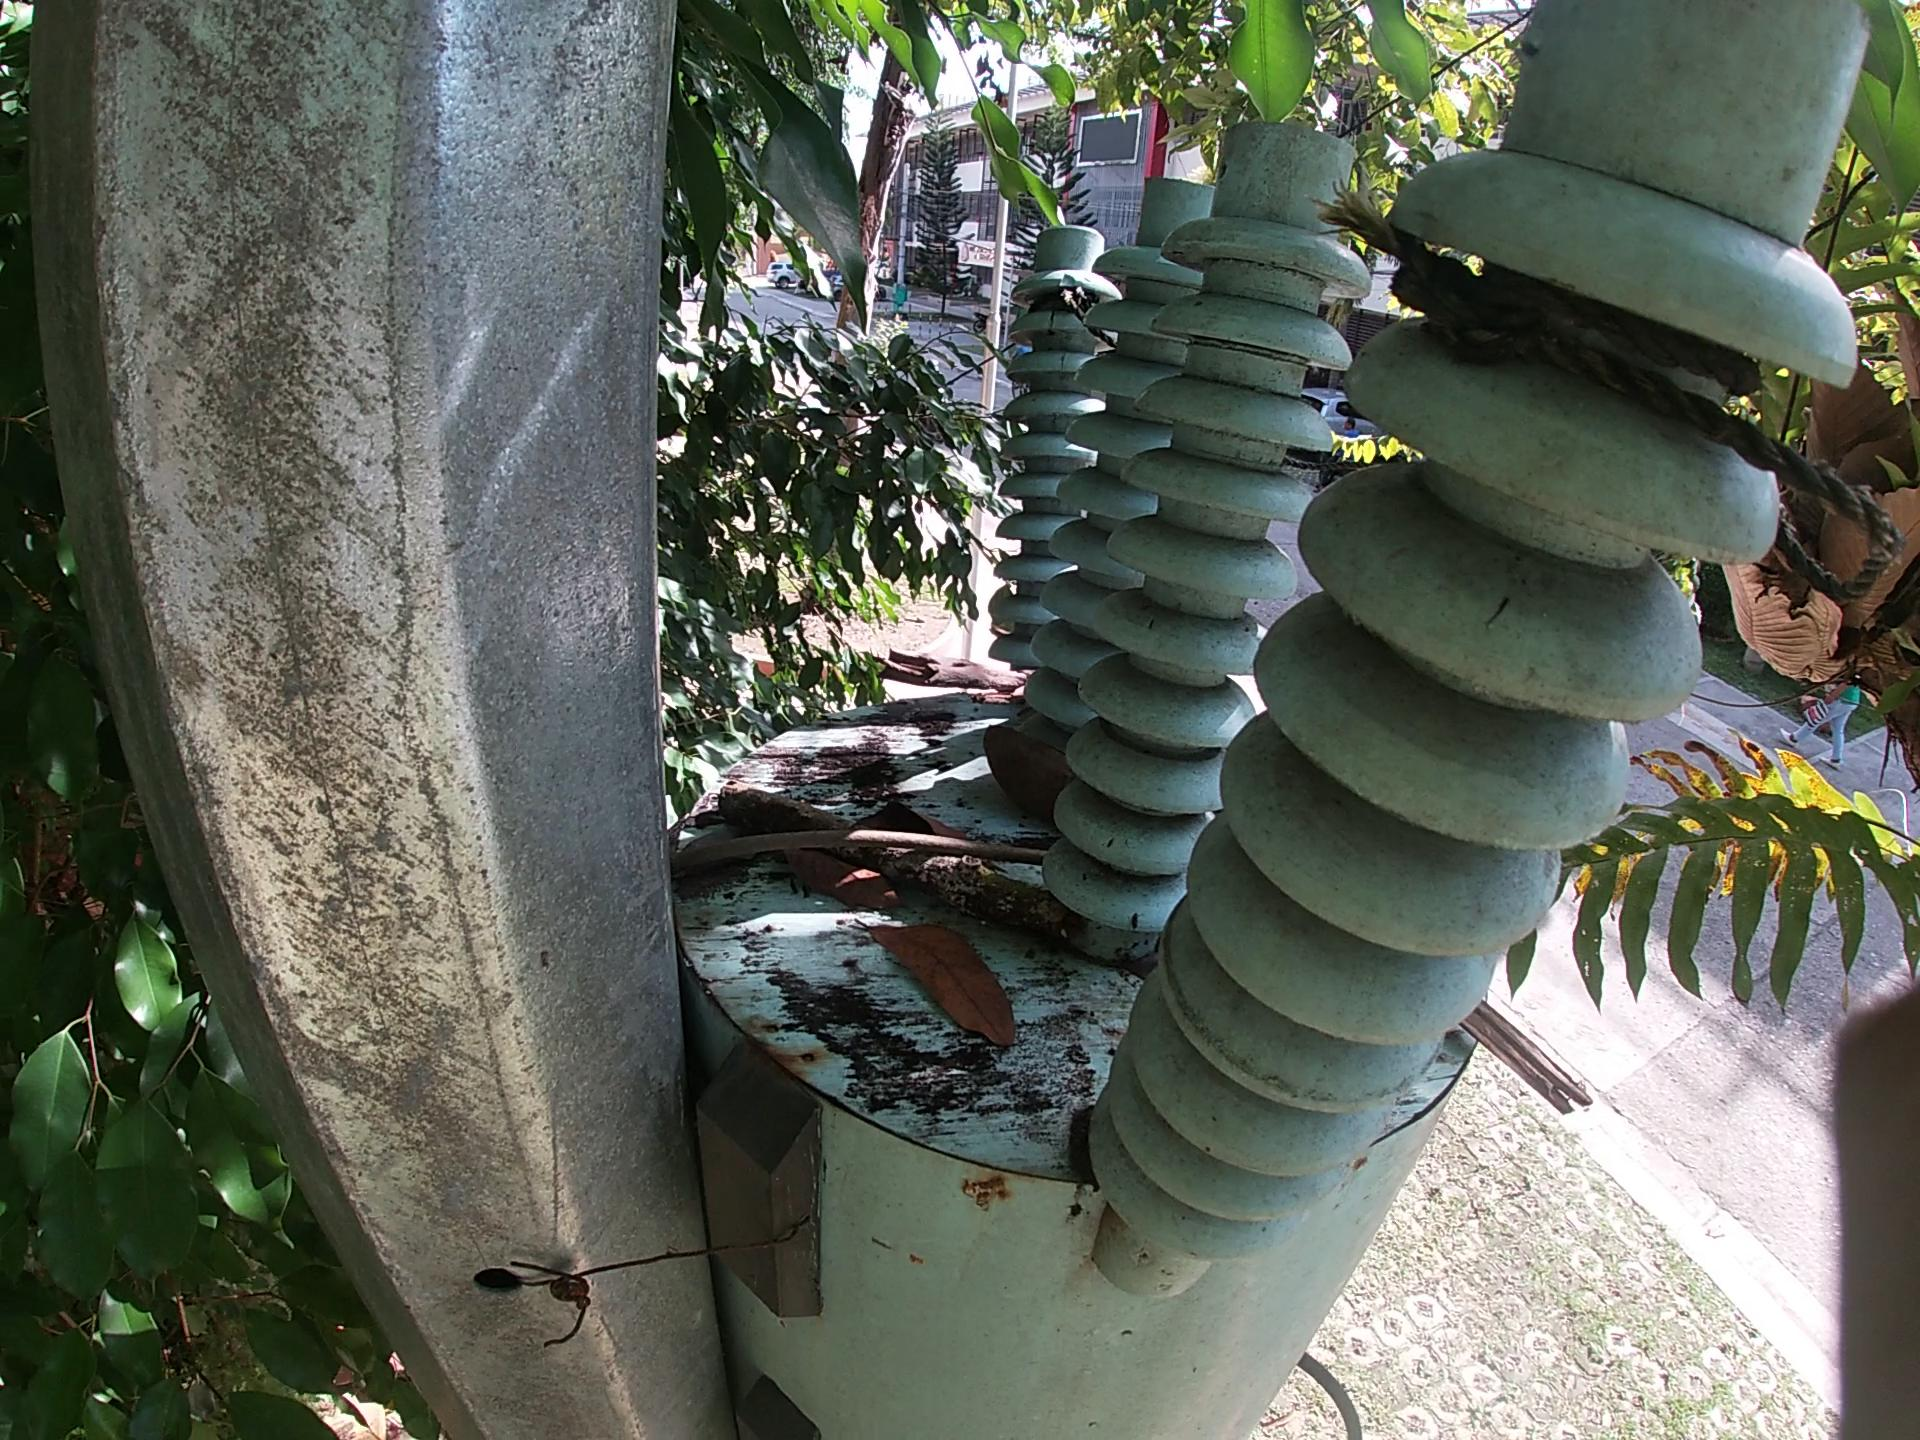leaf: (872, 924, 1042, 1063), (770, 856, 897, 911), (856, 781, 974, 833)
mahogany fruit: (958, 725, 1070, 817)
tree branch: (723, 784, 1170, 976), (1451, 995, 1637, 1137), (659, 832, 1049, 892), (865, 646, 1017, 700)
